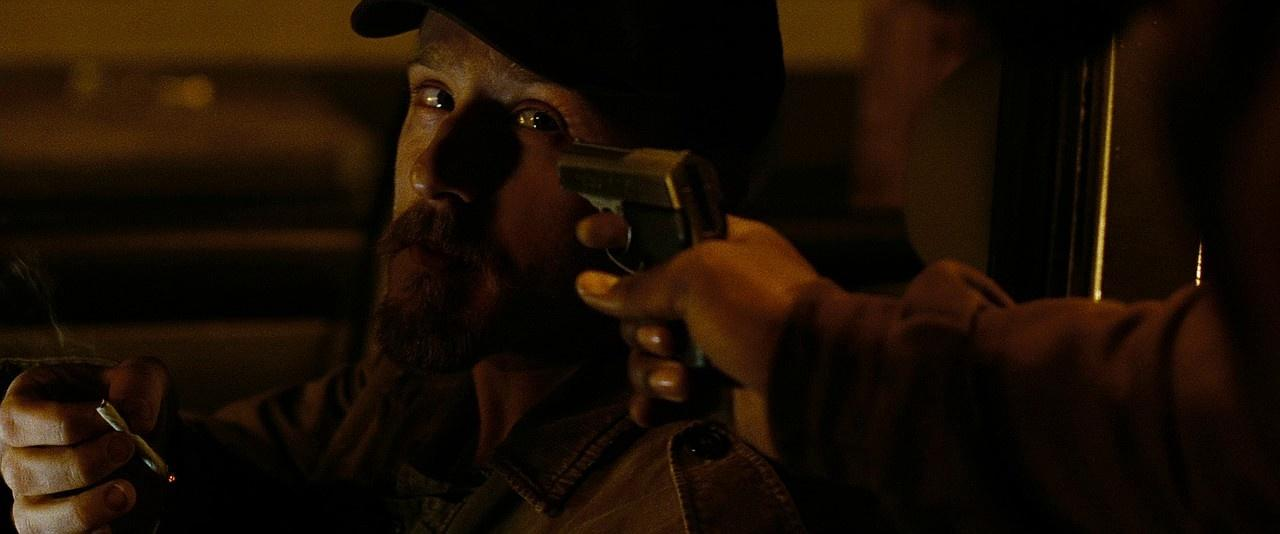gun: (554, 128, 738, 421)
